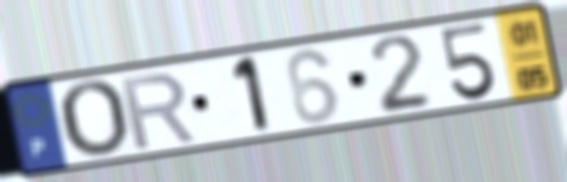1: (228, 52, 274, 136)
2: (366, 32, 438, 117)
5: (436, 19, 498, 103)
6: (281, 45, 346, 127)
O: (53, 78, 132, 162)
R: (117, 69, 200, 153)
